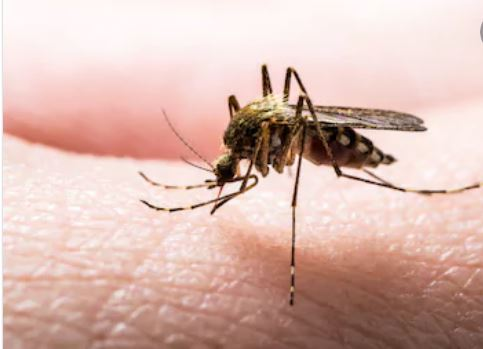dengue_mosquito: (143, 64, 427, 215)
